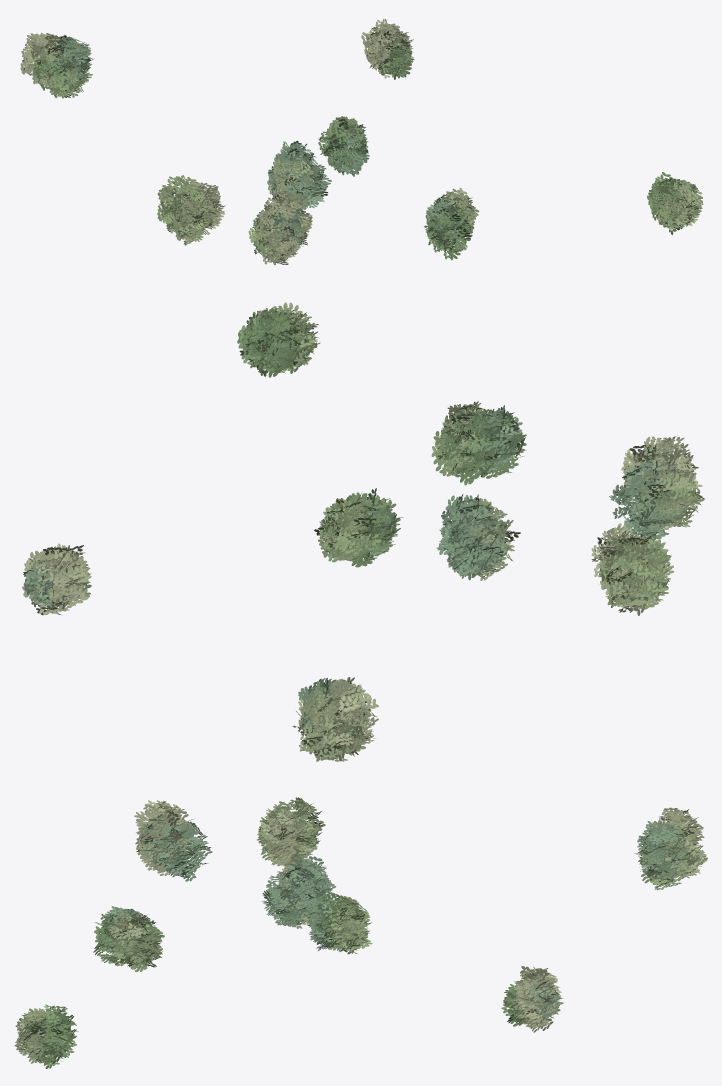
File: campus-tree--2_-2-near.glb
3 views of the same model, one above another, from view 1: azimuth 30°, elevation 25°; view 2: azimuth 150°, elevation 25°; view 3: azimuth 270°, elevation 25° (orthographic). The views are drawn at different scales.
Parts seen in each view (by area): view 1: Campus leaf canopy; view 2: Campus leaf canopy; view 3: Campus leaf canopy.
Boxes of the visible parts, x1,y1,x2,y2 form: Campus leaf canopy: [20, 19, 703, 265]; Campus leaf canopy: [22, 302, 704, 761]; Campus leaf canopy: [14, 797, 707, 1068].
Bounding box in the file's own units: 37.57 × 6.77 × 48.33.
1 material, 1 textured.
